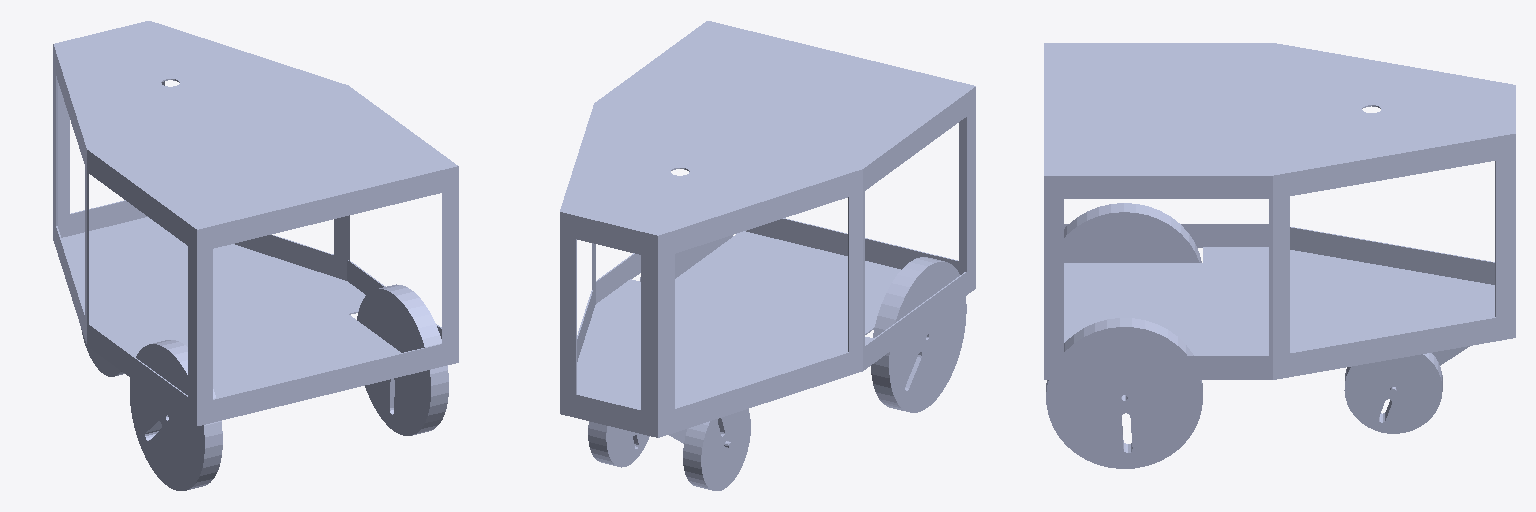
robot.urdf — robot:
<?xml version="1.0" encoding="utf-8"?>
<!-- This URDF was automatically created by SolidWorks to URDF Exporter! Originally created by [author] ([email redacted]) 
     Commit Version: 1.6.0-4-g7f85cfe  Build Version: 1.6.7995.38578
     For more information, please see http://wiki.ros.org/sw_urdf_exporter -->
<robot
  name="robot">
  <link
    name="base_link">
    <inertial>
      <origin
        xyz="1.0198E-15 0.007743 0.042916"
        rpy="0 0 0" />
      <mass
        value="3.8804" />
      <inertia
        ixx="0.46922"
        ixy="-6.415E-16"
        ixz="2.3178E-16"
        iyy="0.43543"
        iyz="-0.0081395"
        izz="0.28753" />
    </inertial>
    <visual>
      <origin
        xyz="0 0 0"
        rpy="0 0 0" />
      <geometry>
        <mesh
          filename="package://dokalman_library/meshes/base_link.STL" />
      </geometry>
      <material
        name="">
        <color
          rgba="0.79216 0.81961 0.93333 1" />
      </material>
    </visual>
    <collision>
      <origin
        xyz="0 0 0"
        rpy="0 0 0" />
      <geometry>
        <mesh
          filename="package://dokalman_library/meshes/base_link.STL" />
      </geometry>
    </collision>
  </link>
  <link
    name="BackLeftWheelLink">
    <inertial>
      <origin
        xyz="-0.020955 0 0.0015468"
        rpy="0 0 0" />
      <mass
        value="2.9916" />
      <inertia
        ixx="0.035119"
        ixy="-2.2673E-21"
        ixz="-8.072E-21"
        iyy="0.017802"
        iyz="-8.6736E-19"
        izz="0.018192" />
    </inertial>
    <visual>
      <origin
        xyz="0 0 0"
        rpy="0 0 0" />
      <geometry>
        <mesh
          filename="package://dokalman_library/meshes/BackLeftWheelLink.STL" />
      </geometry>
      <material
        name="">
        <color
          rgba="0.79216 0.81961 0.93333 1" />
      </material>
    </visual>
    <collision>
      <origin
        xyz="0 0 0"
        rpy="0 0 0" />
      <geometry>
        <mesh
          filename="package://dokalman_library/meshes/BackLeftWheelLink.STL" />
      </geometry>
    </collision>
  </link>
  <joint
    name="BackLeftWheelJoint"
    type="revolute">
    <origin
      xyz="-0.2427 -0.30175 -0.26683"
      rpy="0.81587 0 0" />
    <parent
      link="base_link" />
    <child
      link="BackLeftWheelLink" />
    <axis
      xyz="-1 0 0" />
    <limit
      lower="0"
      upper="3.1415"
      effort="1"
      velocity="1" />
  </joint>
  <link
    name="BackRightWheelLink">
    <inertial>
      <origin
        xyz="0.020955 0 0.0015468"
        rpy="0 0 0" />
      <mass
        value="2.9916" />
      <inertia
        ixx="0.035119"
        ixy="3.9353E-22"
        ixz="1.4357E-20"
        iyy="0.017802"
        iyz="8.6736E-19"
        izz="0.018192" />
    </inertial>
    <visual>
      <origin
        xyz="0 0 0"
        rpy="0 0 0" />
      <geometry>
        <mesh
          filename="package://dokalman_library/meshes/BackRightWheelLink.STL" />
      </geometry>
      <material
        name="">
        <color
          rgba="0.79216 0.81961 0.93333 1" />
      </material>
    </visual>
    <collision>
      <origin
        xyz="0 0 0"
        rpy="0 0 0" />
      <geometry>
        <mesh
          filename="package://dokalman_library/meshes/BackRightWheelLink.STL" />
      </geometry>
    </collision>
  </link>
  <joint
    name="BackRightWheelJoint"
    type="revolute">
    <origin
      xyz="0.2427 -0.30175 -0.26683"
      rpy="0.061644 0 0" />
    <parent
      link="base_link" />
    <child
      link="BackRightWheelLink" />
    <axis
      xyz="-1 0 0" />
    <limit
      lower="0"
      upper="3.1415"
      effort="1"
      velocity="1" />
  </joint>
  <link
    name="CasterLink">
    <inertial>
      <origin
        xyz="-3.3827E-17 -0.036462 0.035808"
        rpy="0 0 0" />
      <mass
        value="0.37248" />
      <inertia
        ixx="0.0013774"
        ixy="-4.142E-19"
        ixz="-2.5987E-18"
        iyy="0.0026235"
        iyz="0.0003954"
        izz="0.0020896" />
    </inertial>
    <visual>
      <origin
        xyz="0 0 0"
        rpy="0 0 0" />
      <geometry>
        <mesh
          filename="package://dokalman_library/meshes/CasterLink.STL" />
      </geometry>
      <material
        name="">
        <color
          rgba="0.79216 0.81961 0.93333 1" />
      </material>
    </visual>
    <collision>
      <origin
        xyz="0 0 0"
        rpy="0 0 0" />
      <geometry>
        <mesh
          filename="package://dokalman_library/meshes/CasterLink.STL" />
      </geometry>
    </collision>
  </link>
  <joint
    name="CasterJoint"
    type="revolute">
    <origin
      xyz="0 0.3302 -0.21908"
      rpy="1.5708 0 -0.01511" />
    <parent
      link="base_link" />
    <child
      link="CasterLink" />
    <axis
      xyz="0 1 0" />
    <limit
      lower="-1.57"
      upper="1.57"
      effort="1"
      velocity="1" />
  </joint>
  <link
    name="FrontLeftWheelLink">
    <inertial>
      <origin
        xyz="-0.024699 9.992E-16 0.0012083"
        rpy="0 0 0" />
      <mass
        value="1.1605" />
      <inertia
        ixx="0.0053422"
        ixy="-4.0996E-19"
        ixz="1.3248E-18"
        iyy="0.0028032"
        iyz="5.421E-20"
        izz="0.0028787" />
    </inertial>
    <visual>
      <origin
        xyz="0 0 0"
        rpy="0 0 0" />
      <geometry>
        <mesh
          filename="package://dokalman_library/meshes/FrontLeftWheelLink.STL" />
      </geometry>
      <material
        name="">
        <color
          rgba="0.79216 0.81961 0.93333 1" />
      </material>
    </visual>
    <collision>
      <origin
        xyz="0 0 0"
        rpy="0 0 0" />
      <geometry>
        <mesh
          filename="package://dokalman_library/meshes/FrontLeftWheelLink.STL" />
      </geometry>
    </collision>
  </link>
  <joint
    name="FrontLeftWheelJoint"
    type="revolute">
    <origin
      xyz="-0.083806 -0.10265 0.10795"
      rpy="1.1883 0 0" />
    <parent
      link="CasterLink" />
    <child
      link="FrontLeftWheelLink" />
    <axis
      xyz="1 0 0" />
    <limit
      lower="0"
      upper="3.1415"
      effort="1"
      velocity="1" />
  </joint>
  <link
    name="FrontRightWheelLink">
    <inertial>
      <origin
        xyz="0.024604 5.5511E-17 0.0012083"
        rpy="0 0 0" />
      <mass
        value="1.1605" />
      <inertia
        ixx="0.0053422"
        ixy="9.8595E-19"
        ixz="-2.3632E-19"
        iyy="0.0028032"
        iyz="0"
        izz="0.0028787" />
    </inertial>
    <visual>
      <origin
        xyz="0 0 0"
        rpy="0 0 0" />
      <geometry>
        <mesh
          filename="package://dokalman_library/meshes/FrontRightWheelLink.STL" />
      </geometry>
      <material
        name="">
        <color
          rgba="0.79216 0.81961 0.93333 1" />
      </material>
    </visual>
    <collision>
      <origin
        xyz="0 0 0"
        rpy="0 0 0" />
      <geometry>
        <mesh
          filename="package://dokalman_library/meshes/FrontRightWheelLink.STL" />
      </geometry>
    </collision>
  </link>
  <joint
    name="FrontRightWheelJoint"
    type="revolute">
    <origin
      xyz="0.083901 -0.10265 0.10795"
      rpy="-1.8971 0 0" />
    <parent
      link="CasterLink" />
    <child
      link="FrontRightWheelLink" />
    <axis
      xyz="1 0 0" />
    <limit
      lower="0"
      upper="3.1415"
      effort="1"
      velocity="1" />
  </joint>
</robot>

--- What the picture shows (computed from the rendered views, not written in the file) ---
Views: 3 orthographic renders of the robot side by side, from view 1: azimuth 30°, elevation 25°; view 2: azimuth 150°, elevation 25°; view 3: azimuth 270°, elevation 25°.
Model robot with 6 links and 5 joints (5 revolute), rooted at base_link, posed all joints at 0.
Visible links, largest first — view 1: base_link, BackRightWheelLink, BackLeftWheelLink; view 2: base_link, BackLeftWheelLink, FrontLeftWheelLink, FrontRightWheelLink, BackRightWheelLink; view 3: base_link, BackRightWheelLink, BackLeftWheelLink, FrontRightWheelLink.
Link boxes in pixels (bbox=[...]): base_link: bbox=[53, 21, 458, 425]; BackRightWheelLink: bbox=[357, 284, 448, 435]; BackLeftWheelLink: bbox=[130, 340, 222, 490]; base_link: bbox=[560, 21, 975, 437]; BackLeftWheelLink: bbox=[871, 257, 966, 412]; FrontLeftWheelLink: bbox=[683, 409, 750, 490]; FrontRightWheelLink: bbox=[588, 421, 649, 467]; BackRightWheelLink: bbox=[640, 235, 732, 281]; base_link: bbox=[1044, 43, 1515, 379]; BackRightWheelLink: bbox=[1046, 318, 1202, 468]; BackLeftWheelLink: bbox=[1064, 203, 1201, 262]; FrontRightWheelLink: bbox=[1344, 353, 1442, 433].
Size in the robot's own frame: 0.6096 by 0.9144 by 0.6383 metres.
6 mesh visuals loaded from 6 distinct referenced files (6 binary STL).
